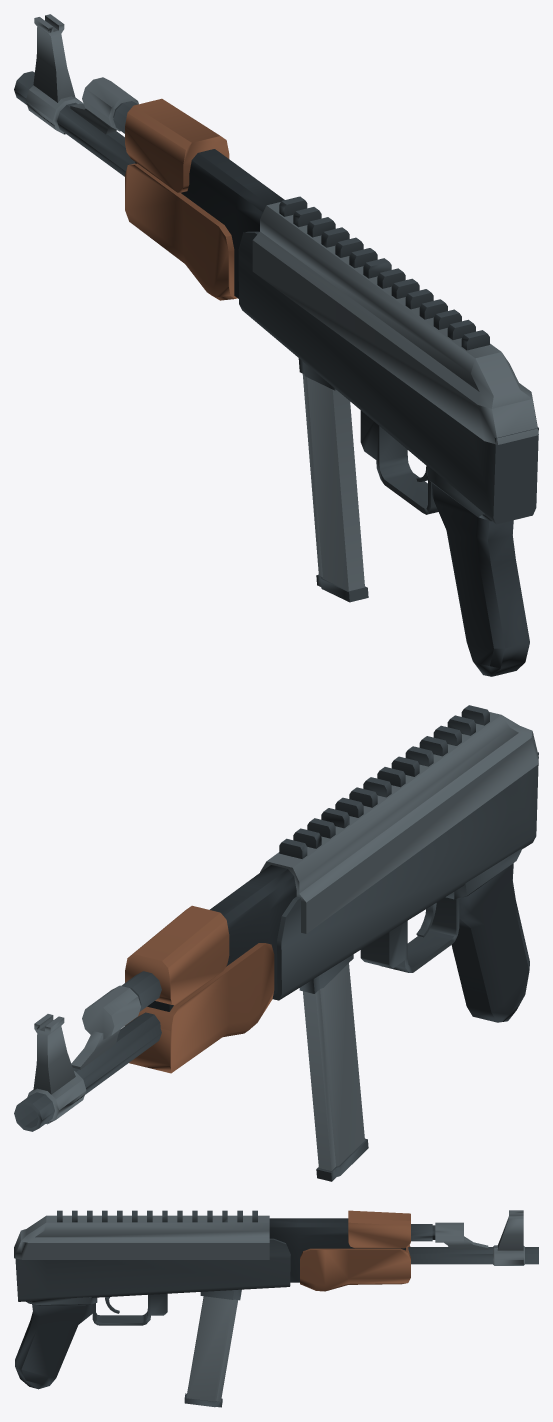
The model's file is rifle.glb.
The picture shows the model from 3 angles, top to bottom: view 1: azimuth 30°, elevation 25°; view 2: azimuth 150°, elevation 25°; view 3: azimuth 270°, elevation 25°; orthographic projection. The views are drawn at different scales.
Visible parts, largest first — view 1: AssaultRifle_1; view 2: AssaultRifle_1; view 3: AssaultRifle_1.
Part boxes in pixels (x1,y1,x2,y2): AssaultRifle_1: (14, 14, 538, 676); AssaultRifle_1: (14, 705, 538, 1181); AssaultRifle_1: (14, 1210, 538, 1407).
Bounding box in the file's own units: 0.0593 × 0.3815 × 0.94.
